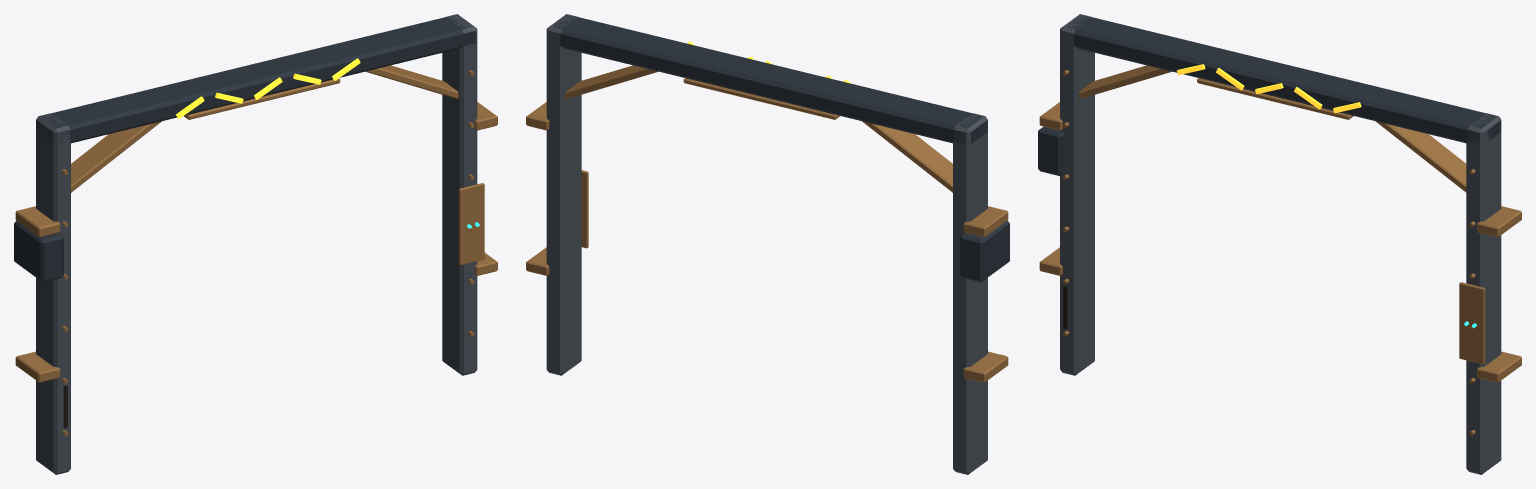
Rendered from runtime.glb.
3 views of the same model, side by side, from view 1: azimuth 30°, elevation 25°; view 2: azimuth 150°, elevation 25°; view 3: azimuth 330°, elevation 25° (orthographic).
Visible parts, largest first — view 1: kinetic-tide-machine-frame-v10_plate_nocol, kinetic-tide-machine-frame-v10_steel_nocol, kinetic-tide-machine-frame-v10_bronze_nocol, kinetic-tide-machine-frame-v10_warningorange_nocol; view 2: kinetic-tide-machine-frame-v10_plate_nocol, kinetic-tide-machine-frame-v10_steel_nocol, kinetic-tide-machine-frame-v10_bronze_nocol; view 3: kinetic-tide-machine-frame-v10_plate_nocol, kinetic-tide-machine-frame-v10_steel_nocol, kinetic-tide-machine-frame-v10_bronze_nocol, kinetic-tide-machine-frame-v10_warningorange_nocol.
Boxes of the visible parts, left/top/right/bottom form: kinetic-tide-machine-frame-v10_plate_nocol: left=36, top=14, right=477, bottom=474; kinetic-tide-machine-frame-v10_steel_nocol: left=14, top=14, right=475, bottom=282; kinetic-tide-machine-frame-v10_bronze_nocol: left=15, top=65, right=497, bottom=435; kinetic-tide-machine-frame-v10_warningorange_nocol: left=176, top=58, right=360, bottom=118; kinetic-tide-machine-frame-v10_plate_nocol: left=546, top=14, right=987, bottom=474; kinetic-tide-machine-frame-v10_steel_nocol: left=551, top=14, right=1009, bottom=282; kinetic-tide-machine-frame-v10_bronze_nocol: left=526, top=65, right=1008, bottom=382; kinetic-tide-machine-frame-v10_plate_nocol: left=1060, top=14, right=1501, bottom=474; kinetic-tide-machine-frame-v10_steel_nocol: left=1038, top=14, right=1501, bottom=175; kinetic-tide-machine-frame-v10_bronze_nocol: left=1039, top=65, right=1521, bottom=435; kinetic-tide-machine-frame-v10_warningorange_nocol: left=1177, top=64, right=1361, bottom=113.
Bounding box in the file's own units: 11.97 × 8.62 × 1.31.
